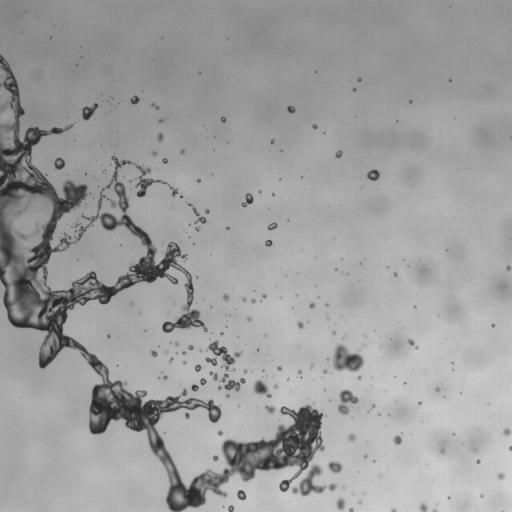droplet: (205, 340, 245, 391), (333, 343, 364, 372), (337, 389, 358, 414), (253, 379, 271, 397), (82, 103, 98, 120), (327, 461, 342, 473), (241, 193, 253, 206), (366, 169, 379, 180), (336, 497, 345, 511), (54, 157, 64, 169), (392, 435, 402, 445), (237, 489, 246, 500), (130, 95, 140, 104), (267, 222, 277, 230), (265, 405, 275, 413), (194, 364, 203, 372), (419, 502, 427, 511), (348, 433, 356, 441), (502, 428, 511, 435), (287, 106, 295, 113), (497, 472, 505, 479), (157, 132, 163, 141), (335, 150, 342, 157), (191, 384, 198, 391), (297, 321, 303, 329), (265, 240, 272, 246), (223, 294, 229, 301), (150, 350, 157, 356), (200, 378, 206, 385), (309, 302, 315, 308), (228, 505, 234, 511), (220, 117, 226, 122), (188, 344, 193, 350), (217, 430, 223, 435), (439, 448, 445, 453), (213, 455, 218, 461), (312, 124, 317, 129), (162, 158, 167, 163), (506, 265, 511, 270), (241, 297, 246, 302), (251, 298, 256, 303), (323, 369, 328, 373), (390, 508, 396, 511), (357, 77, 361, 81), (270, 139, 274, 143), (180, 149, 184, 153), (152, 151, 156, 155), (196, 178, 200, 182), (205, 209, 209, 213), (262, 294, 266, 298), (247, 317, 251, 321), (174, 342, 178, 346), (163, 350, 167, 354), (169, 358, 173, 362), (182, 360, 186, 364), (277, 366, 281, 370), (243, 369, 247, 373), (163, 375, 167, 379), (274, 384, 278, 388), (435, 387, 439, 391), (476, 459, 480, 463), (158, 119, 163, 122), (310, 363, 313, 368), (298, 370, 301, 375), (195, 227, 199, 230), (394, 272, 397, 276), (364, 454, 367, 458), (358, 501, 362, 504), (349, 508, 353, 511), (509, 445, 511, 450), (226, 226, 229, 229), (325, 303, 328, 306), (332, 331, 335, 334), (220, 332, 223, 335), (182, 351, 185, 354), (218, 386, 221, 389), (418, 401, 421, 404), (342, 485, 345, 488), (103, 169, 105, 172), (272, 193, 275, 195), (492, 324, 494, 327), (107, 335, 110, 337), (358, 376, 360, 379), (480, 495, 483, 497), (353, 88, 355, 90), (410, 100, 412, 102), (259, 191, 261, 193), (260, 299, 262, 301), (414, 306, 416, 308), (264, 334, 266, 336), (199, 349, 201, 351)
ligament: (0, 54, 334, 511), (188, 203, 206, 223), (408, 339, 418, 349), (151, 103, 159, 109), (370, 404, 374, 409), (431, 509, 437, 511)
